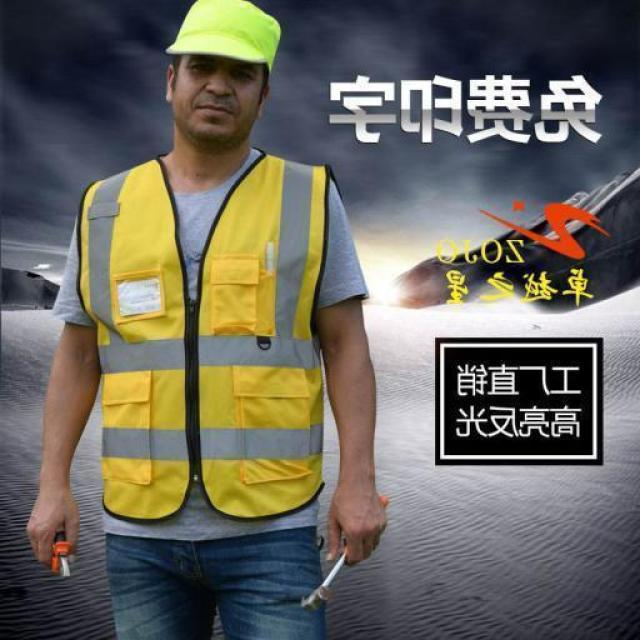face_nomask: (185, 56, 259, 128)
hand_noglove: (316, 473, 402, 566), (20, 484, 90, 574)
head_nohelmet: (158, 0, 288, 65)
person: (32, 0, 402, 640)
vest: (71, 150, 341, 530)
